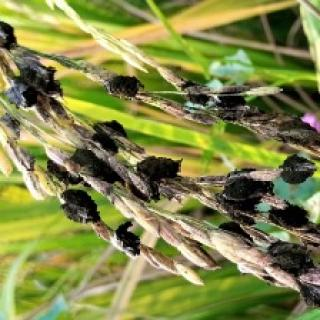Gosong-Palsu: (3, 49, 61, 96), (137, 156, 181, 199), (267, 243, 313, 276), (60, 190, 101, 223), (280, 154, 316, 184), (110, 221, 139, 256), (224, 177, 266, 200), (6, 77, 36, 107), (269, 206, 307, 227), (106, 76, 143, 96), (0, 21, 16, 49)
